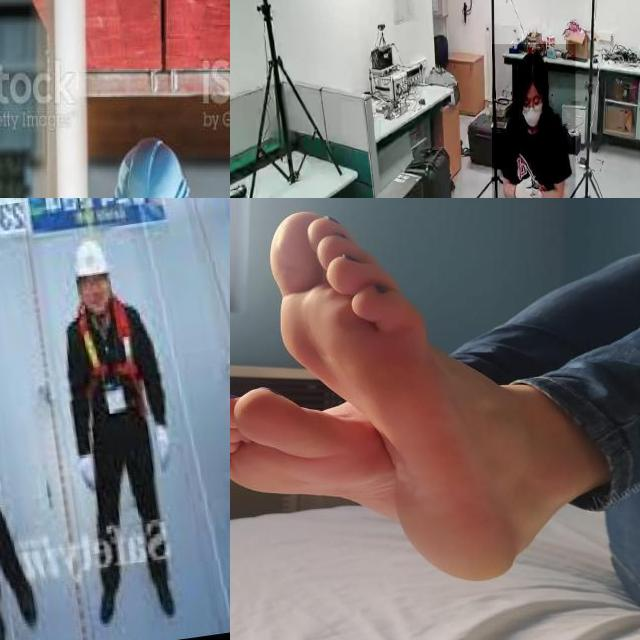Barefoots: (274, 207, 540, 591), (230, 365, 398, 519)
Harness: (65, 290, 155, 451)
face_mask: (492, 44, 576, 198), (521, 82, 548, 130)
glasses: (520, 101, 542, 116)
hand_glove: (513, 167, 540, 198)
head_nohelmet: (519, 47, 547, 92)
